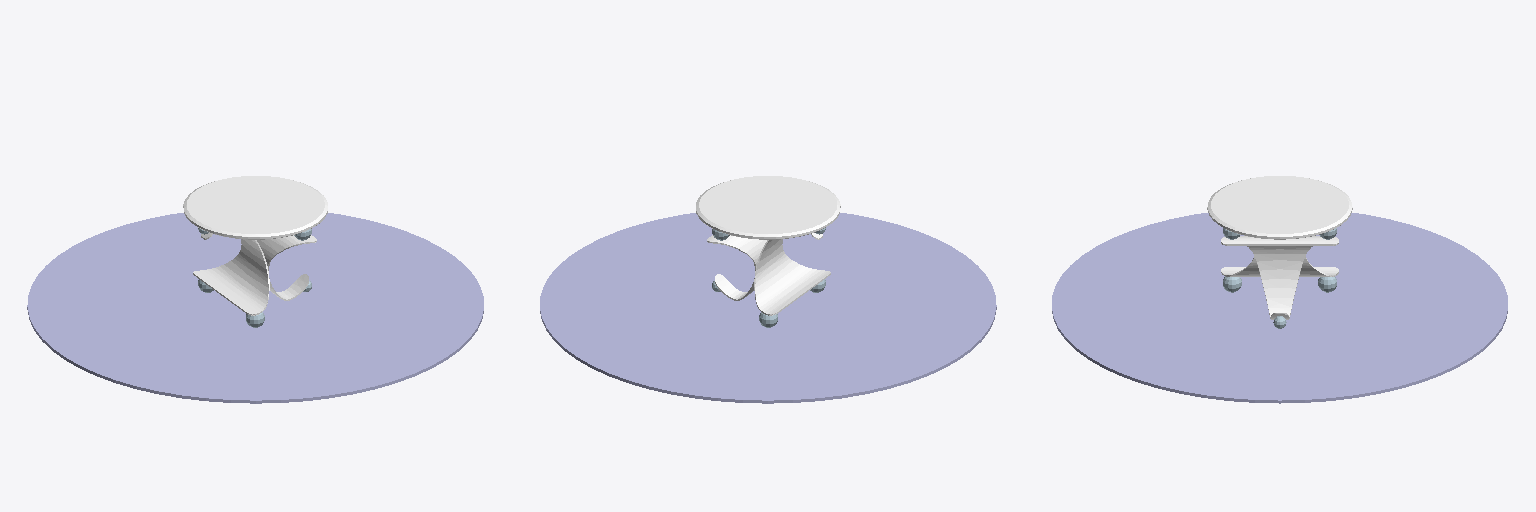
The model's file is coffe-table-1ffbx.obj.
3 renders of one model, left to right at view 1: azimuth 30°, elevation 25°; view 2: azimuth 150°, elevation 25°; view 3: azimuth 270°, elevation 25°, orthographic.
Visible parts, largest first — view 1: PolyMesh.003, PolyMesh.008, PolyMesh, PolyMesh.004; view 2: PolyMesh.003, PolyMesh.008, PolyMesh, PolyMesh.004; view 3: PolyMesh.003, PolyMesh.008, PolyMesh.004, PolyMesh.
Part boxes in pixels (left/top/right/bottom): PolyMesh.003: left=27, top=213, right=483, bottom=403; PolyMesh.008: left=183, top=176, right=327, bottom=239; PolyMesh: left=193, top=233, right=269, bottom=315; PolyMesh.004: left=257, top=235, right=316, bottom=300; PolyMesh.003: left=540, top=213, right=996, bottom=403; PolyMesh.008: left=696, top=176, right=840, bottom=239; PolyMesh: left=754, top=233, right=830, bottom=315; PolyMesh.004: left=707, top=235, right=766, bottom=300; PolyMesh.003: left=1052, top=213, right=1507, bottom=403; PolyMesh.008: left=1207, top=176, right=1352, bottom=239; PolyMesh.004: left=1221, top=236, right=1338, bottom=319; PolyMesh: left=1221, top=257, right=1338, bottom=276.
Bounding box in the file's own units: 69.21 × 17.06 × 69.23.